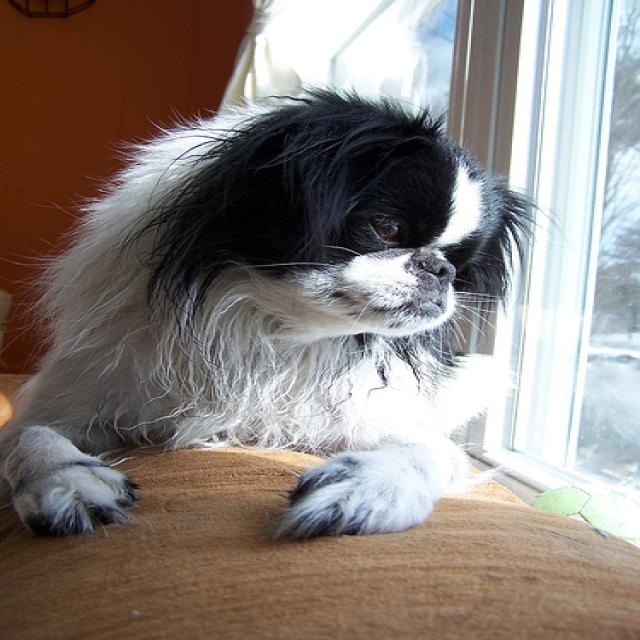dog-japanese_chin: (2, 82, 536, 547)
